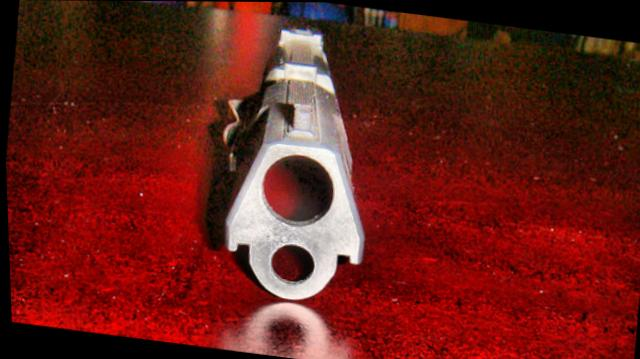pistol: (193, 15, 391, 306)
